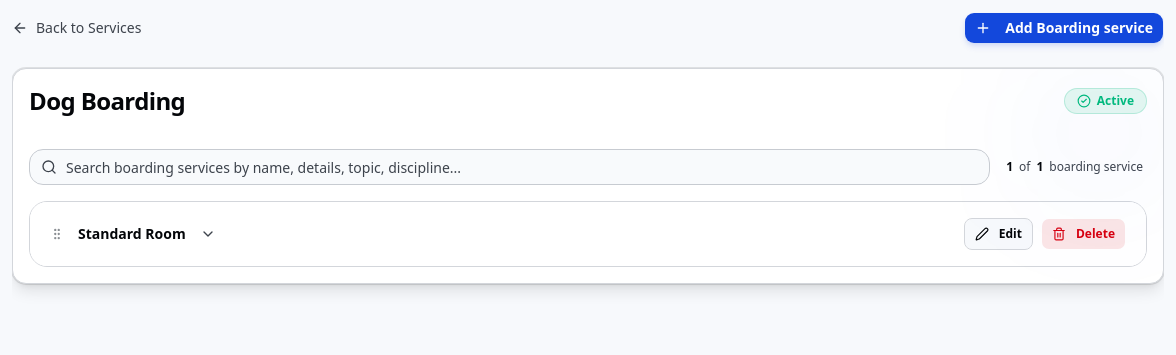
Test: DashboardServiceDetail Component › should display custom badges (Meds, Walks, Updates, Meals) for Boarding services
Click the button named "Expand" at (208, 234), box x1=196 y1=222 x2=220 y2=246
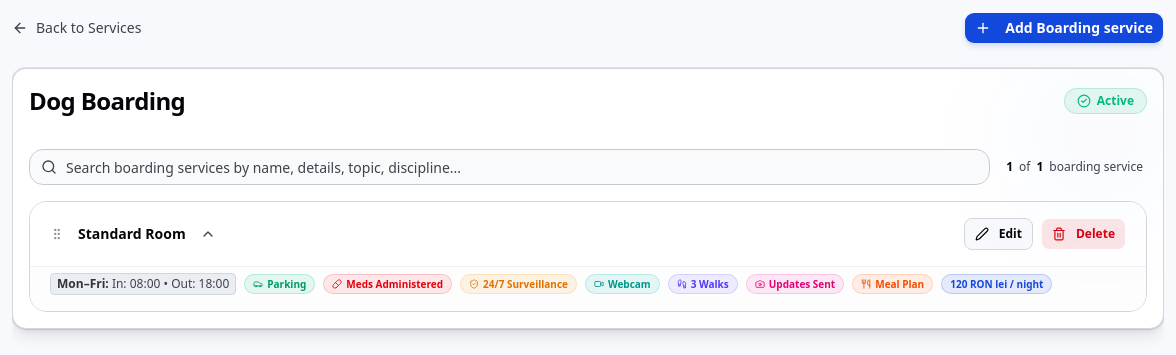
expect the text "Meds Administered" is shown: met, box x1=323 y1=274 x2=452 y2=294
expect the text "24/7 Surveillance" is shown: met, box x1=460 y1=274 x2=577 y2=294
expect the text "Webcam" is shown: met, box x1=585 y1=274 x2=660 y2=294
